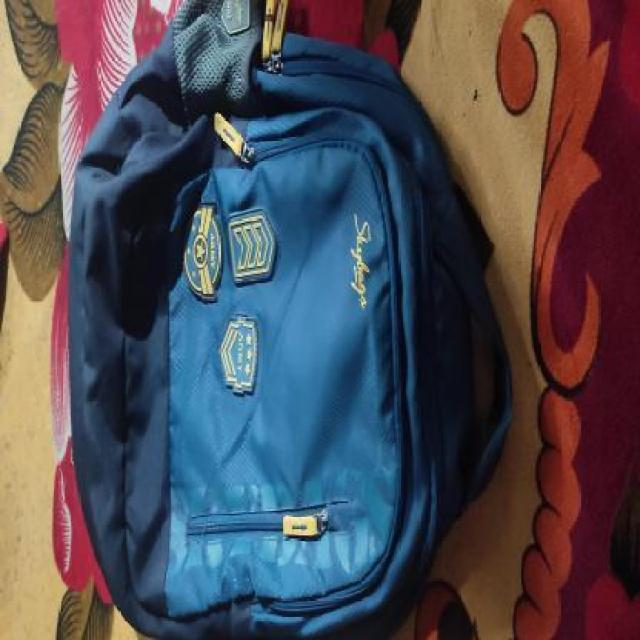backpack: (62, 0, 520, 640)
